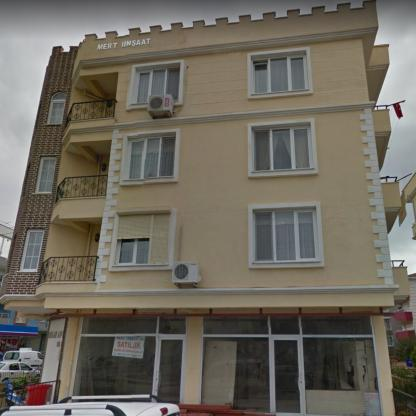door: (270, 336, 305, 416), (154, 336, 186, 403)
window: (200, 317, 300, 413), (72, 316, 187, 396), (300, 316, 382, 415), (252, 205, 320, 263), (251, 122, 314, 172), (112, 214, 170, 265), (124, 132, 176, 181), (251, 50, 308, 94), (130, 63, 180, 104), (19, 229, 44, 272), (36, 157, 56, 193), (47, 92, 66, 124), (0, 235, 10, 258)
